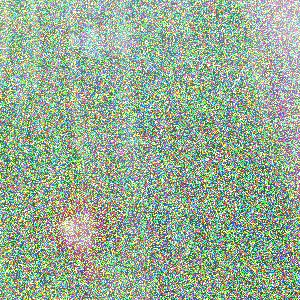Brown_Spot: (36, 175, 129, 275)
